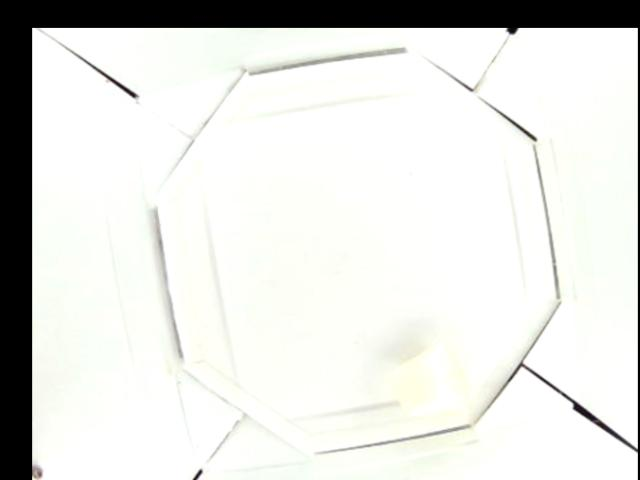Mooli: (388, 341, 466, 420)
